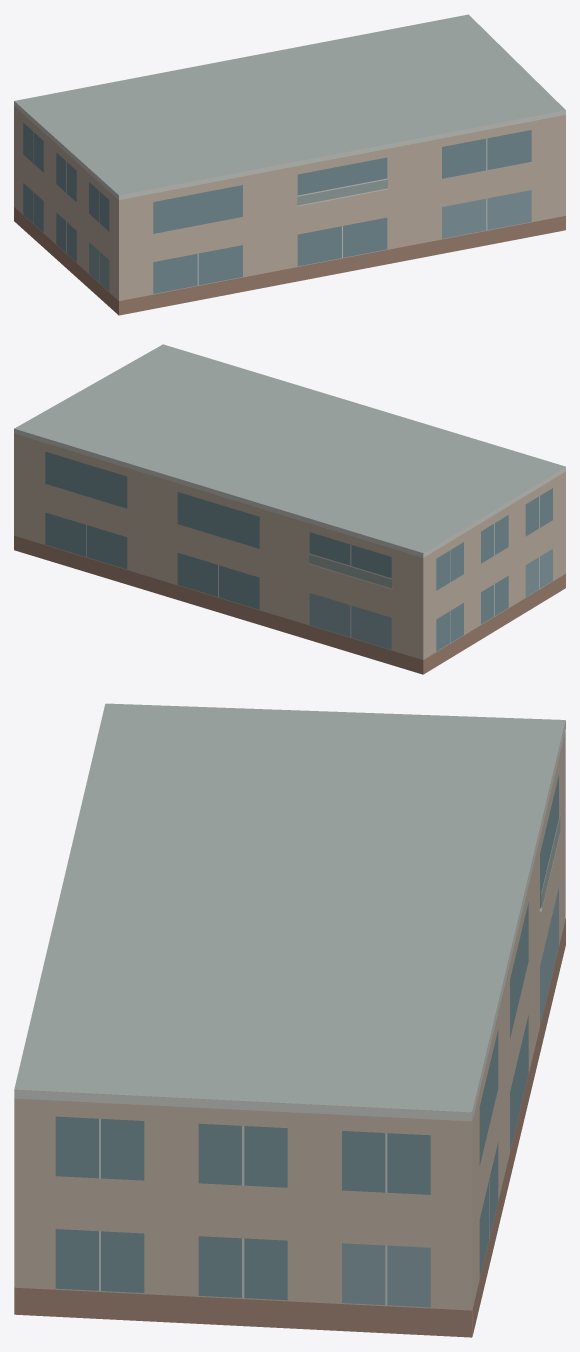
Rendered from survey-upis-32563343.glb.
3 views of the same model, one above another, from view 1: azimuth 30°, elevation 25°; view 2: azimuth 150°, elevation 25°; view 3: azimuth 270°, elevation 25° (orthographic). The views are drawn at different scales.
Visible parts, largest first — view 1: survey-upis-32563343.tmp; view 2: survey-upis-32563343.tmp; view 3: survey-upis-32563343.tmp.
Boxes of the visible parts, left/top/right/bottom form: survey-upis-32563343.tmp: left=14, top=14, right=565, bottom=315; survey-upis-32563343.tmp: left=14, top=344, right=565, bottom=674; survey-upis-32563343.tmp: left=14, top=703, right=565, bottom=1337.
Size of the model in its own units: 23.79 by 6.1 by 13.56.
